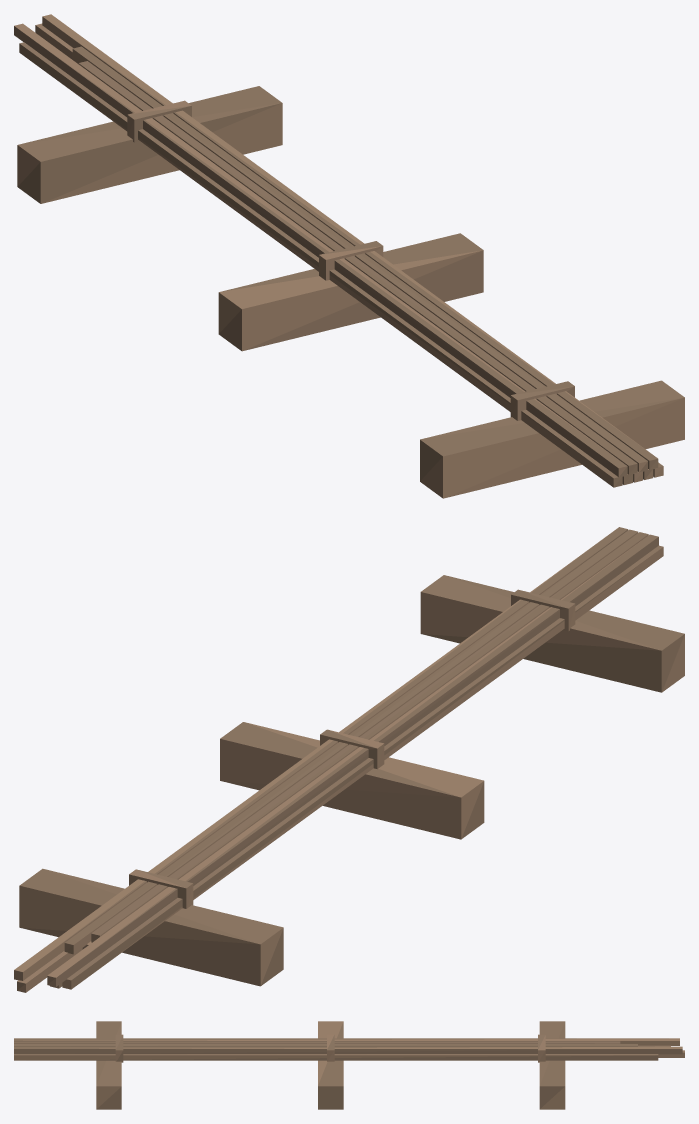
Rendered from rebar-bundle-00.glb.
3 renders of one model, top to bottom at view 1: azimuth 30°, elevation 25°; view 2: azimuth 150°, elevation 25°; view 3: azimuth 270°, elevation 25°, orthographic. The views are drawn at different scales.
Visible parts, largest first — view 1: rebar_bundle_00; view 2: rebar_bundle_00; view 3: rebar_bundle_00.
Part boxes in pixels (x1,y1,x2,y2): rebar_bundle_00: (14,14,684,498); rebar_bundle_00: (14,527,684,992); rebar_bundle_00: (14,1021,684,1109).
Bounding box in the file's own units: 0.6001 × 0.1492 × 2.62.
